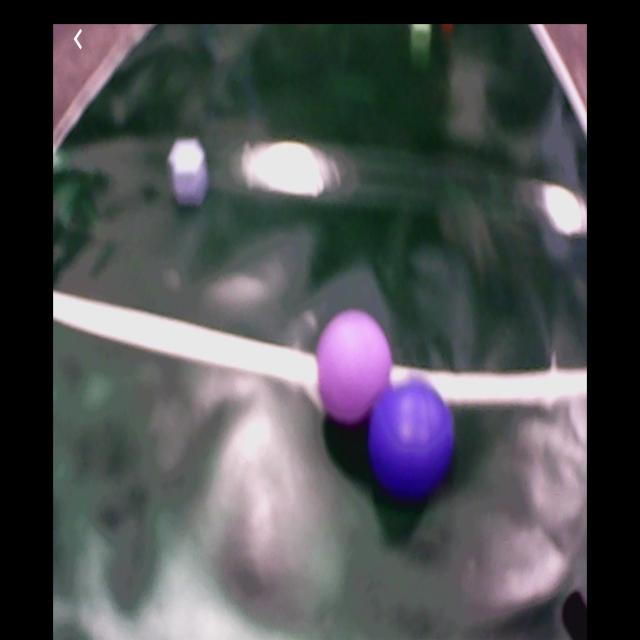ball: (371, 382, 456, 501), (317, 314, 393, 425)
